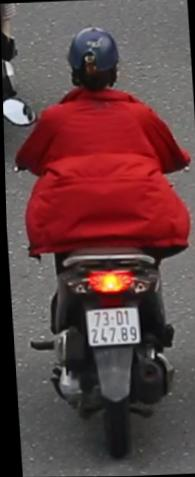LP: (80, 299, 142, 350)
helmet: (62, 23, 125, 104)
